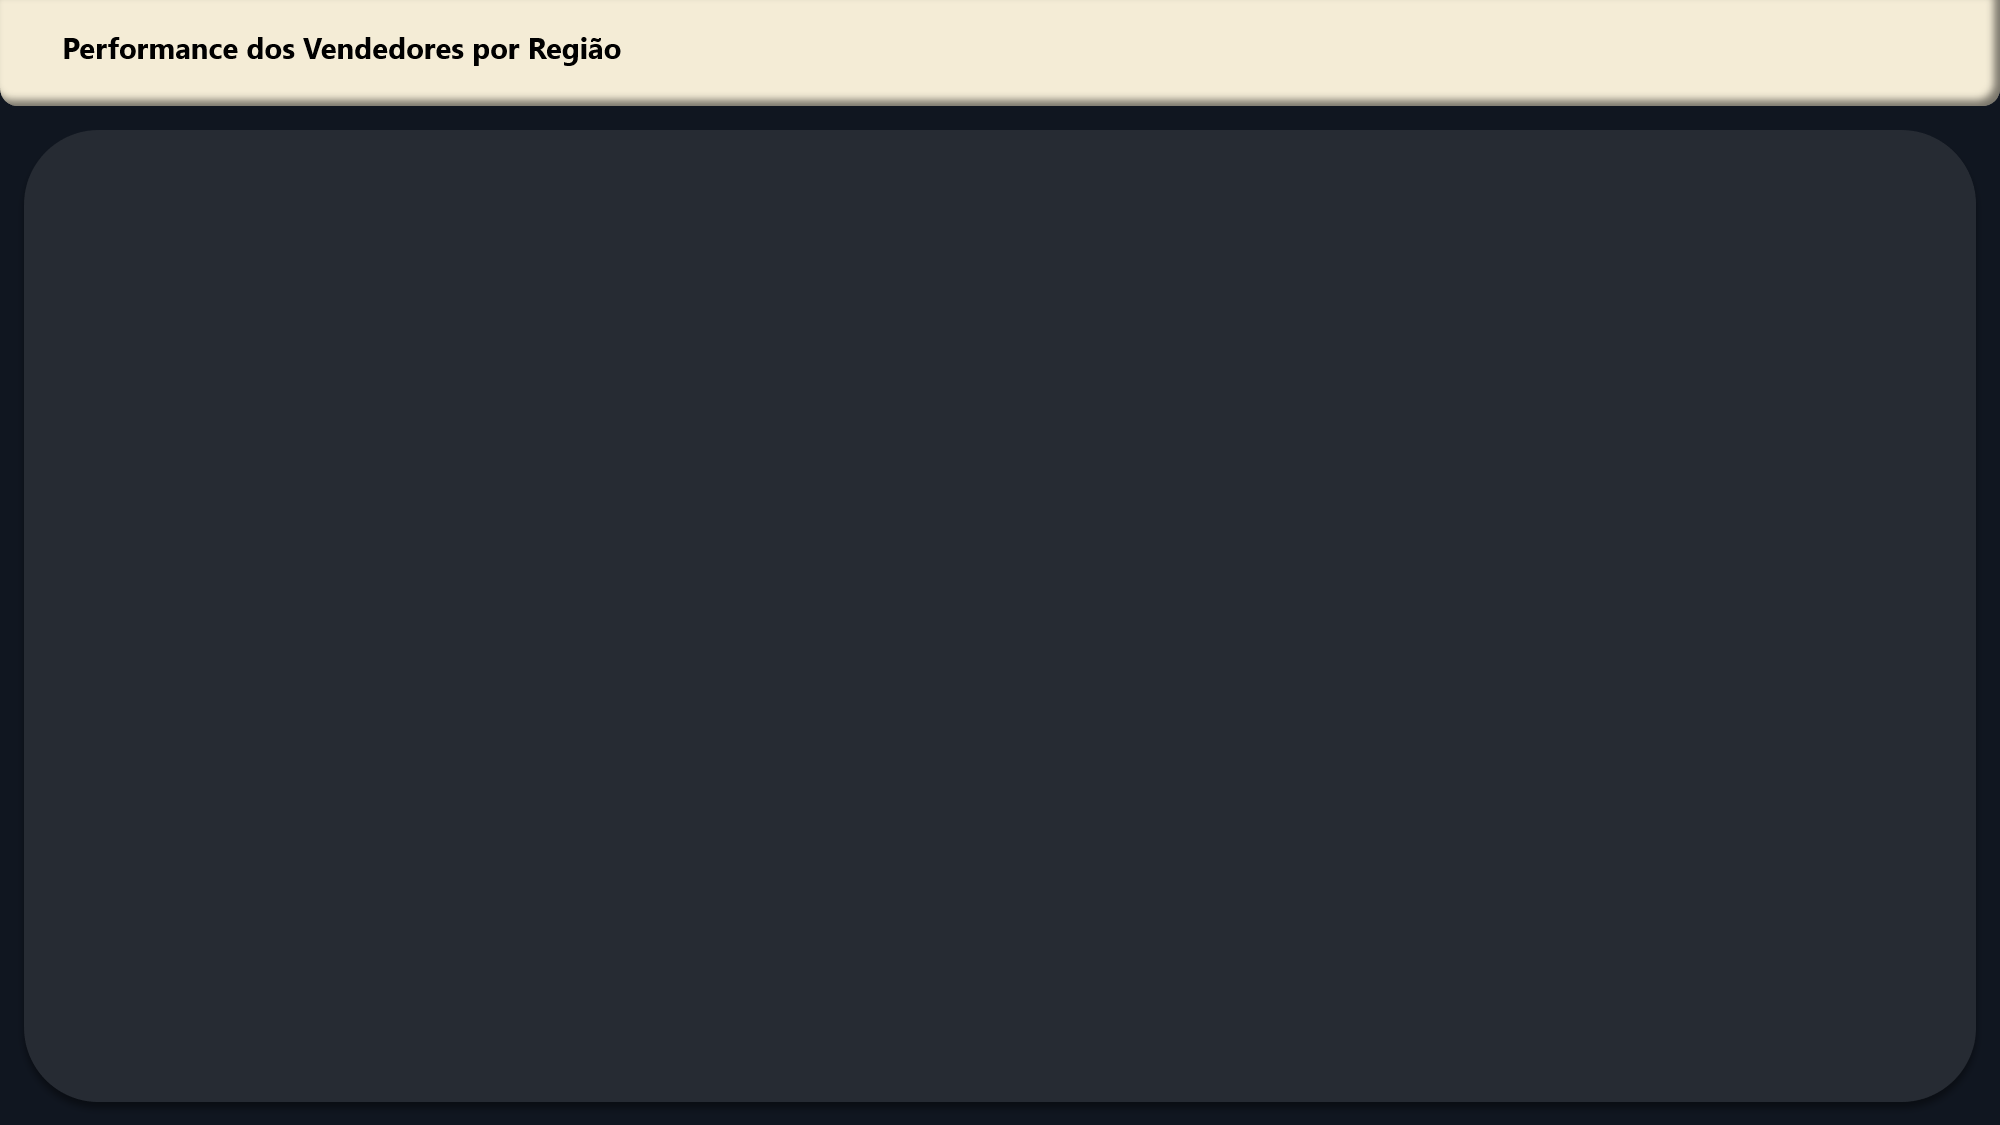

This screenshot's page, from the dashboard's own definition file:
{"tool":"powerbi","page":{"name":"Performance dos Vendedores por Região","canvas":[1280,720],"ordinal":4},"visuals":[{"type":"map","fields":{"Category":["Vendas.Estado","Vendas.Cidade"],"Series":["Vendas.Vendedor"],"Size":["Sum(Vendas.ValorVenda)"]},"box":[24.6,93.1,1230.1,597.1],"z":0}]}

Visuals, with their boxes on the page's 1280x720 design canvas (x1, y1, x2, y2). These are canvas units, not pixel positions in the 2000x1125 screenshot, which may show the page scaled, cropped or inside an application window:
map - Vendas.Estado x Vendas.Cidade: Rect(25, 93, 1255, 690)
